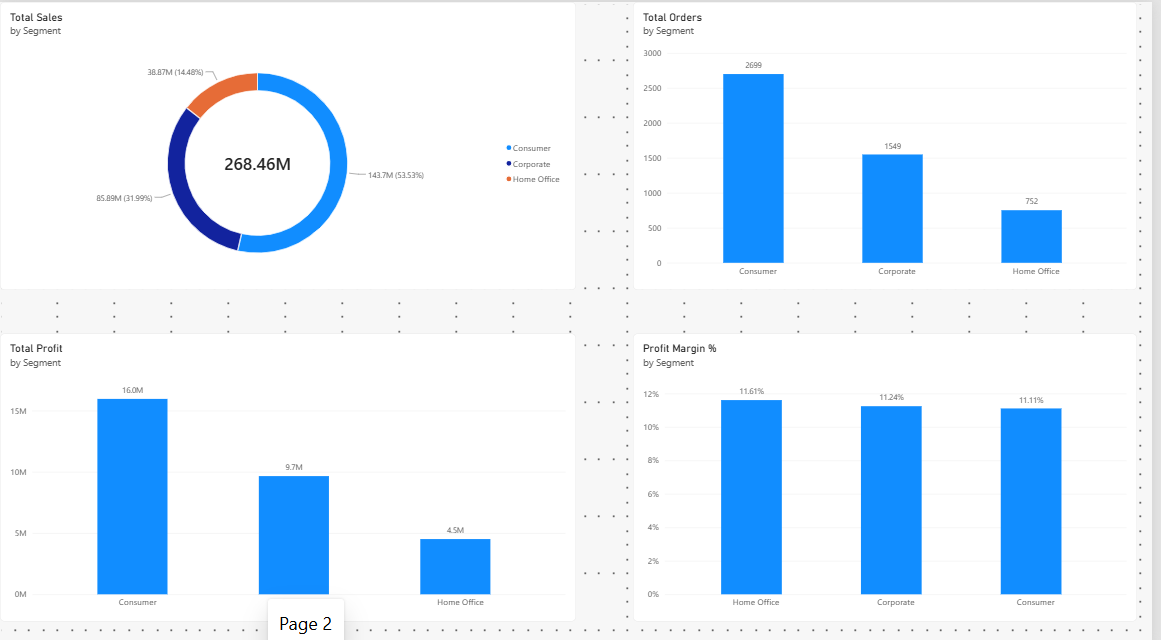

Layout of this report page (visuals, bound fields, positions):
{"tool":"powerbi","page":{"name":"Page 2","canvas":[1920,1080],"ordinal":1},"visuals":[{"type":"donutChart","fields":{"Category":["Sales_Data.Segment"],"Y":["Calendar.Total Sales"]},"box":[0,0,960,480],"z":0},{"type":"clusteredColumnChart","fields":{"Category":["Sales_Data.Segment"],"Y":["Sales_Data.Total Profit"]},"box":[0,552,960,480],"z":1000},{"type":"clusteredColumnChart","fields":{"Category":["Sales_Data.Segment"],"Y":["Sales_Data.Total Orders"]},"box":[1056,0,840,480],"z":2000},{"type":"columnChart","fields":{"Category":["Sales_Data.Segment"],"Y":["Sales_Data.Profit Margin %"]},"box":[1056,552,840,480],"z":3000}]}

Visuals, with their boxes in screenshot pixels (x1, y1, x2, y2), scaled from the page's 1920x1080 canvas onto the 1161x640 screenshot:
donutChart - Sales_Data.Segment x Calendar.Total Sales: {"left": 0, "top": 0, "right": 580, "bottom": 284}
clusteredColumnChart - Sales_Data.Segment x Sales_Data.Total Profit: {"left": 0, "top": 327, "right": 580, "bottom": 612}
clusteredColumnChart - Sales_Data.Segment x Sales_Data.Total Orders: {"left": 639, "top": 0, "right": 1146, "bottom": 284}
columnChart - Sales_Data.Segment x Sales_Data.Profit Margin %: {"left": 639, "top": 327, "right": 1146, "bottom": 612}
